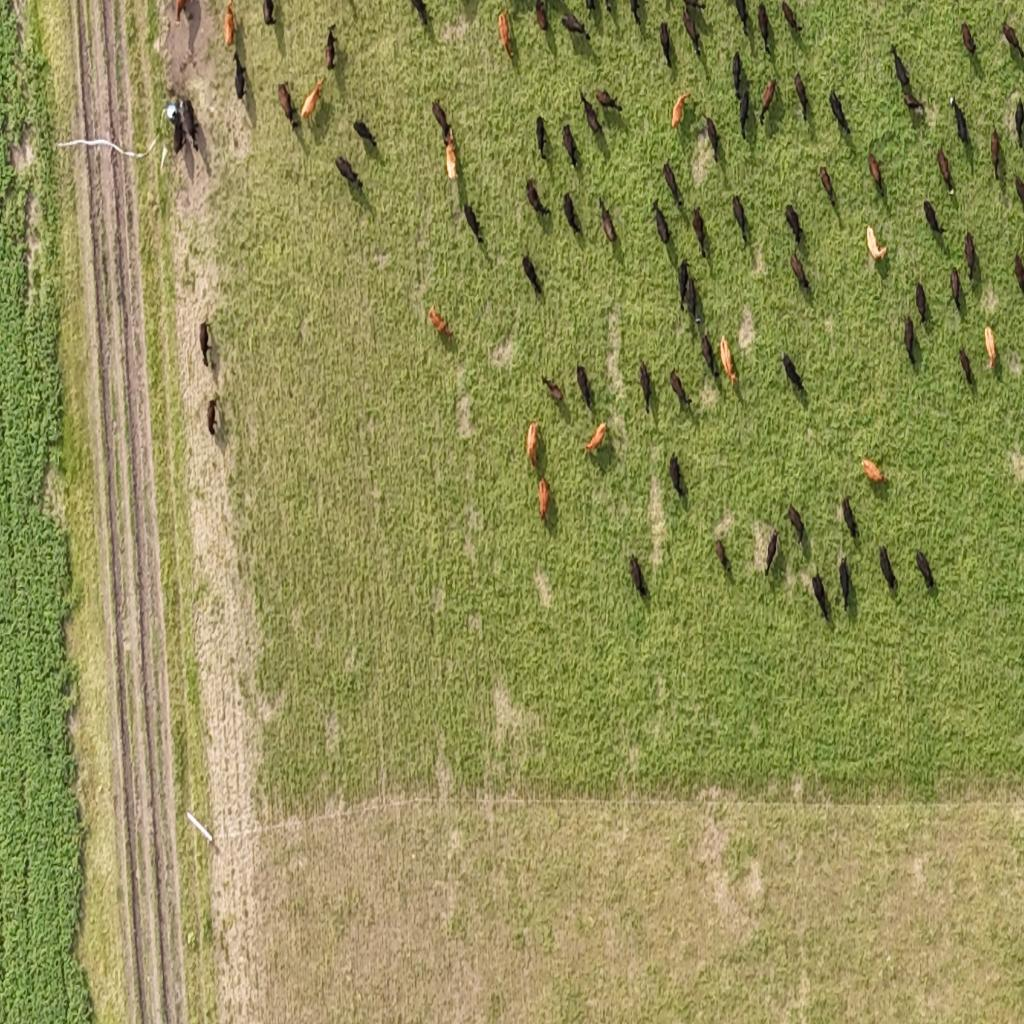cow: (584, 418, 613, 459), (755, 4, 775, 59), (301, 76, 324, 121), (737, 81, 752, 150), (950, 96, 969, 150), (782, 353, 806, 395), (526, 178, 550, 220), (180, 96, 198, 151), (829, 89, 850, 136), (669, 368, 691, 412), (662, 160, 682, 208), (522, 253, 543, 298), (335, 155, 362, 190), (900, 86, 926, 122), (790, 250, 811, 294), (812, 571, 830, 622), (598, 198, 617, 246), (784, 203, 804, 248), (720, 336, 738, 386), (682, 6, 700, 56), (562, 192, 582, 236), (581, 94, 601, 138), (432, 99, 452, 143), (729, 0, 752, 38), (464, 201, 484, 244), (732, 194, 749, 244), (879, 545, 897, 592), (629, 554, 648, 598), (278, 82, 296, 128), (915, 549, 935, 590), (891, 38, 912, 77), (429, 305, 453, 339), (759, 77, 776, 125), (692, 206, 708, 256), (794, 70, 810, 120), (700, 332, 717, 379), (1001, 22, 1022, 60), (562, 123, 580, 167), (353, 117, 377, 150), (838, 554, 852, 610), (576, 365, 593, 411), (652, 202, 669, 248), (683, 272, 698, 324), (841, 495, 858, 540), (936, 147, 953, 192), (781, 0, 801, 38), (672, 92, 692, 130), (787, 504, 805, 546), (866, 226, 887, 262), (764, 529, 780, 576), (669, 453, 685, 499), (705, 113, 720, 162), (819, 165, 836, 208), (595, 88, 623, 114), (964, 231, 978, 282), (868, 152, 884, 196), (560, 12, 587, 38), (862, 457, 888, 484), (542, 375, 565, 405), (923, 199, 941, 237), (639, 362, 652, 414), (958, 347, 974, 389), (526, 421, 540, 469), (498, 10, 512, 58), (445, 129, 458, 180), (659, 21, 673, 68), (677, 260, 690, 310), (1012, 96, 1024, 149), (915, 281, 929, 326), (990, 127, 1002, 178), (732, 53, 748, 91), (234, 52, 246, 102), (904, 315, 916, 365), (199, 320, 211, 368), (224, 0, 236, 48), (326, 24, 338, 71), (961, 22, 977, 57), (950, 265, 962, 311), (985, 325, 997, 371), (409, 0, 428, 28), (172, 110, 184, 154), (715, 538, 730, 573), (536, 114, 548, 156), (538, 478, 550, 520), (207, 396, 219, 436), (533, 0, 548, 32), (628, 0, 642, 29), (622, 0, 641, 18), (262, 0, 275, 26), (1017, 251, 1024, 297), (584, 0, 598, 23), (684, 0, 707, 14), (175, 0, 188, 23), (1018, 174, 1024, 216), (604, 0, 616, 20)
